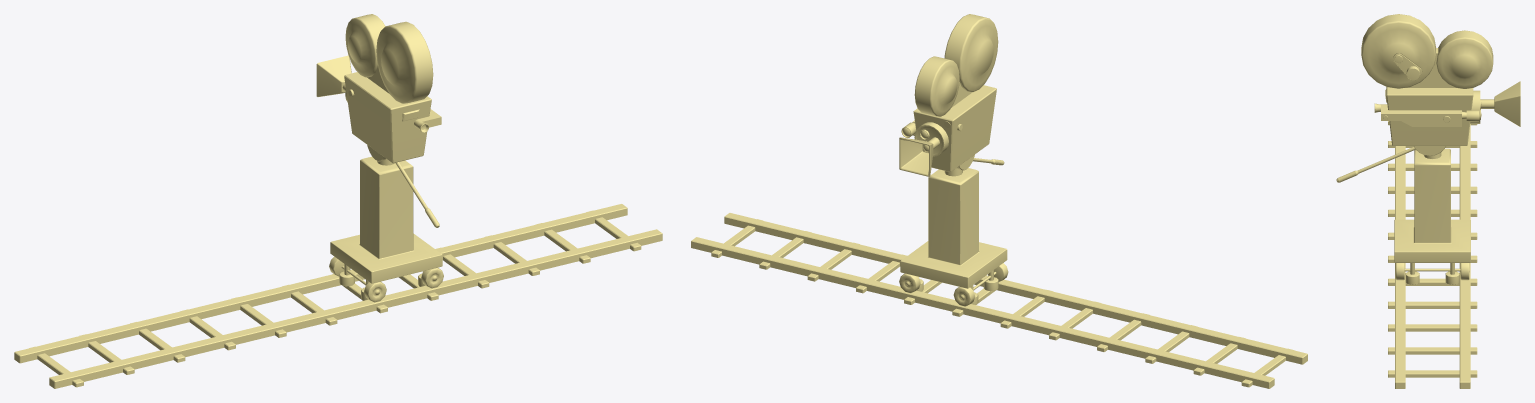
Rendered from Camera.fbx.
The picture shows the model from 3 angles, left to right: view 1: azimuth 30°, elevation 25°; view 2: azimuth 150°, elevation 25°; view 3: azimuth 270°, elevation 25°; orthographic projection. The views are drawn at different scales.
Parts seen in each view (by area): view 1: rails, low2_stand_pCylinder42, camera_stand1, wheels1; view 2: rails, low2_stand_pCylinder42, camera_stand1, wheels1; view 3: low2_stand_pCylinder42, rails, camera_stand1, wheels1.
Boxes of the visible parts, <box> form: rails: <box>14,204,662,388</box>; low2_stand_pCylinder42: <box>316,14,441,227</box>; camera_stand1: <box>330,156,442,300</box>; wheels1: <box>329,256,443,302</box>; rails: <box>691,213,1307,388</box>; low2_stand_pCylinder42: <box>899,14,1004,176</box>; camera_stand1: <box>900,168,1007,304</box>; wheels1: <box>899,263,1008,306</box>; low2_stand_pCylinder42: <box>1336,14,1520,182</box>; rails: <box>1388,121,1477,388</box>; camera_stand1: <box>1394,148,1470,284</box>; wheels1: <box>1395,263,1469,280</box>.
Bounding box in the file's own units: 300 × 130 × 84.75.
